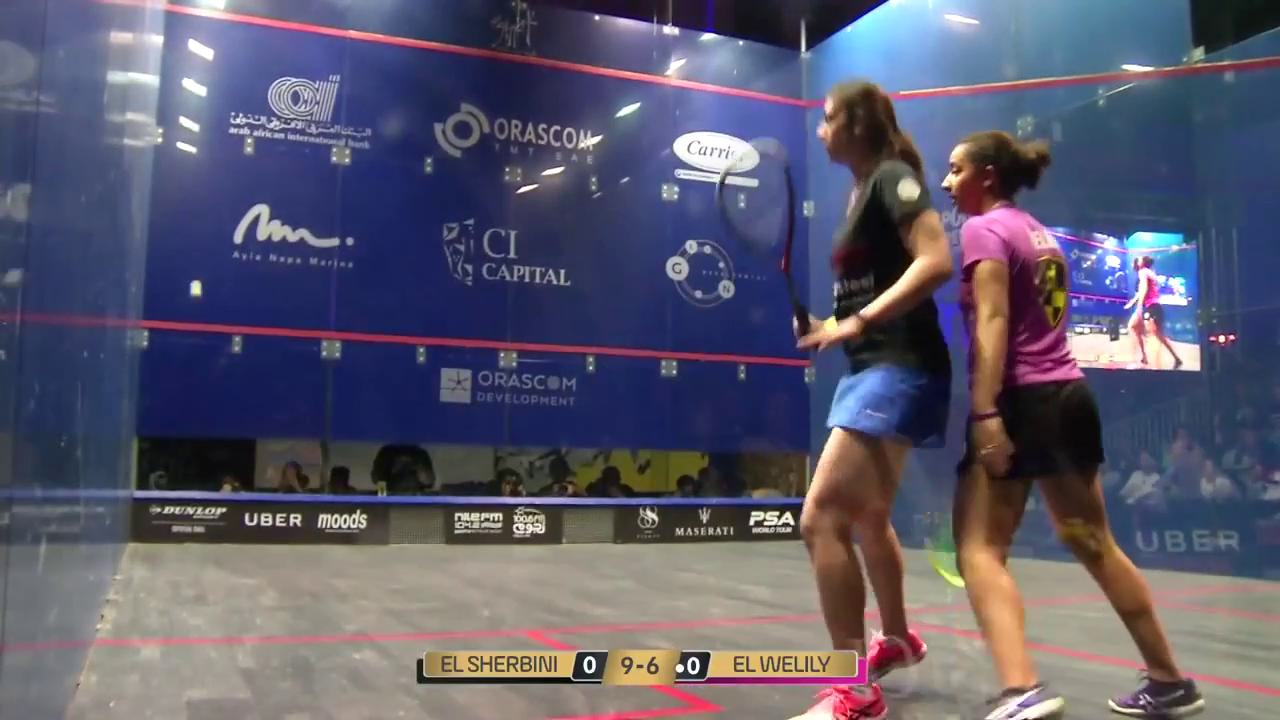normal: (939, 128, 1203, 720), (787, 76, 952, 720)
